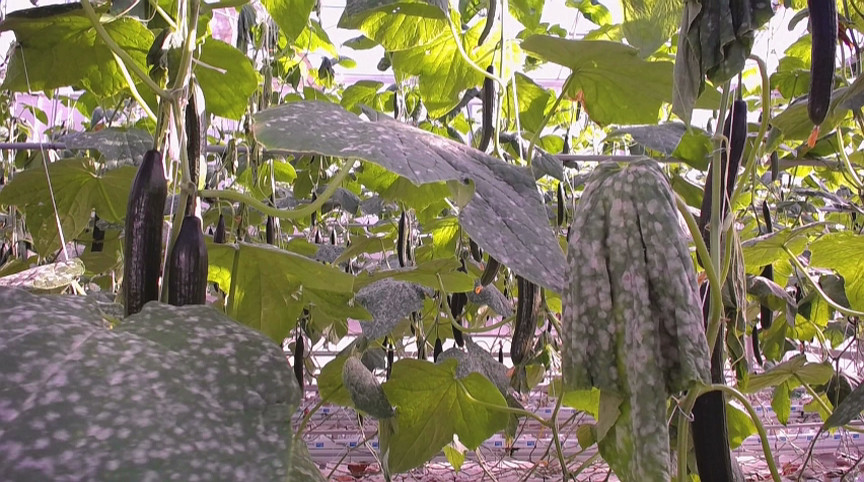cucumber: (121, 150, 167, 316), (700, 98, 749, 221), (808, 1, 840, 125), (694, 393, 735, 482), (168, 216, 207, 307), (510, 277, 541, 364), (186, 71, 207, 190), (478, 67, 500, 154), (481, 255, 504, 287), (293, 335, 305, 390), (399, 211, 410, 268)
